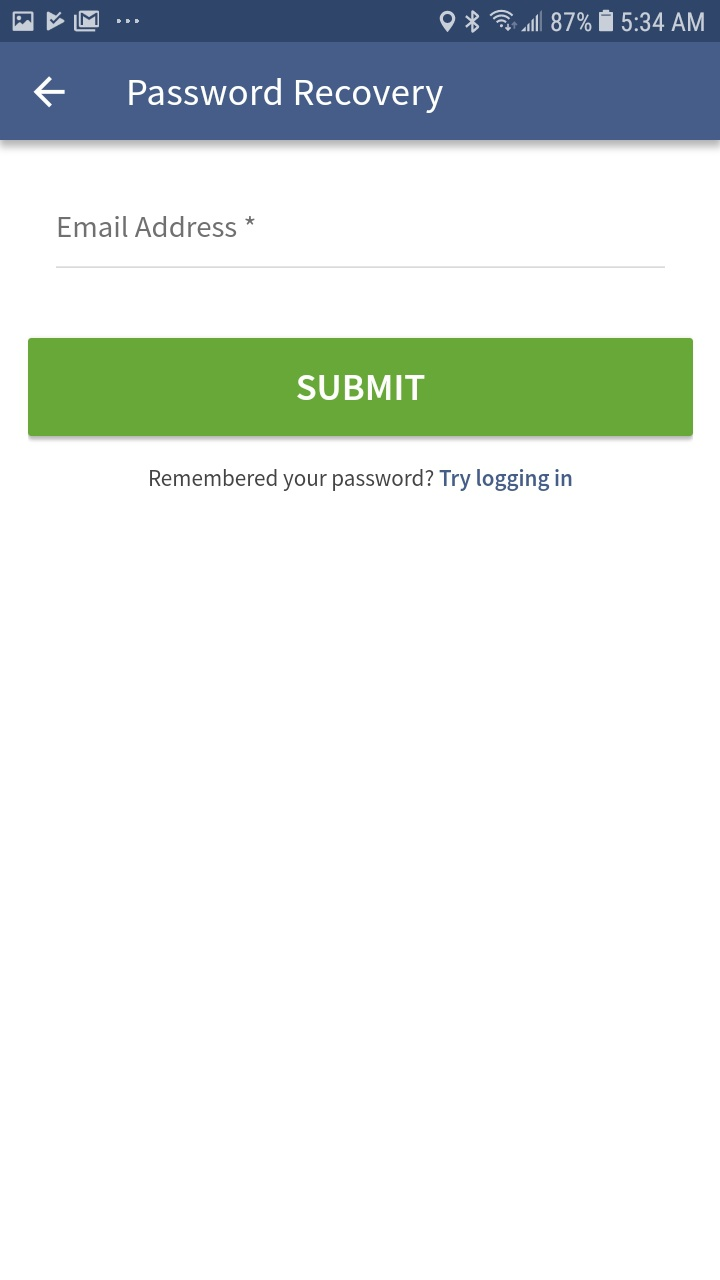EditText: (56, 216, 666, 270)
Icon: (34, 77, 66, 108)
Text: (129, 78, 444, 115), (150, 469, 573, 492), (59, 216, 255, 239)
TextButton: (29, 338, 693, 437)
UpperTaskBar: (1, 1, 720, 43)
